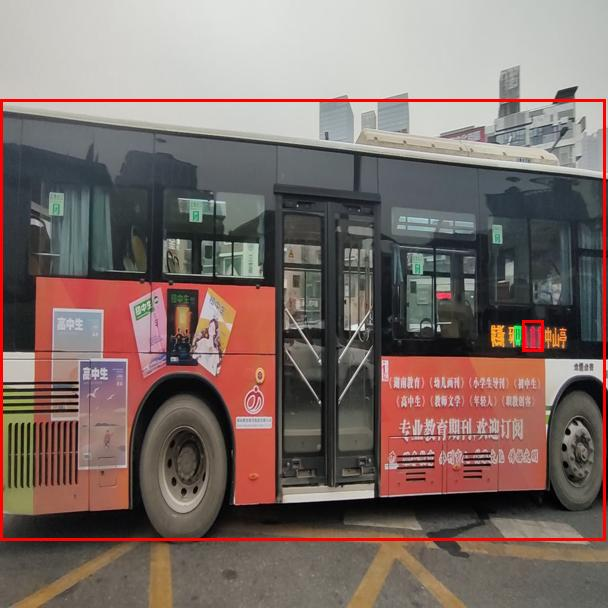bus: (0, 99, 605, 540)
screen: (522, 320, 543, 351)
